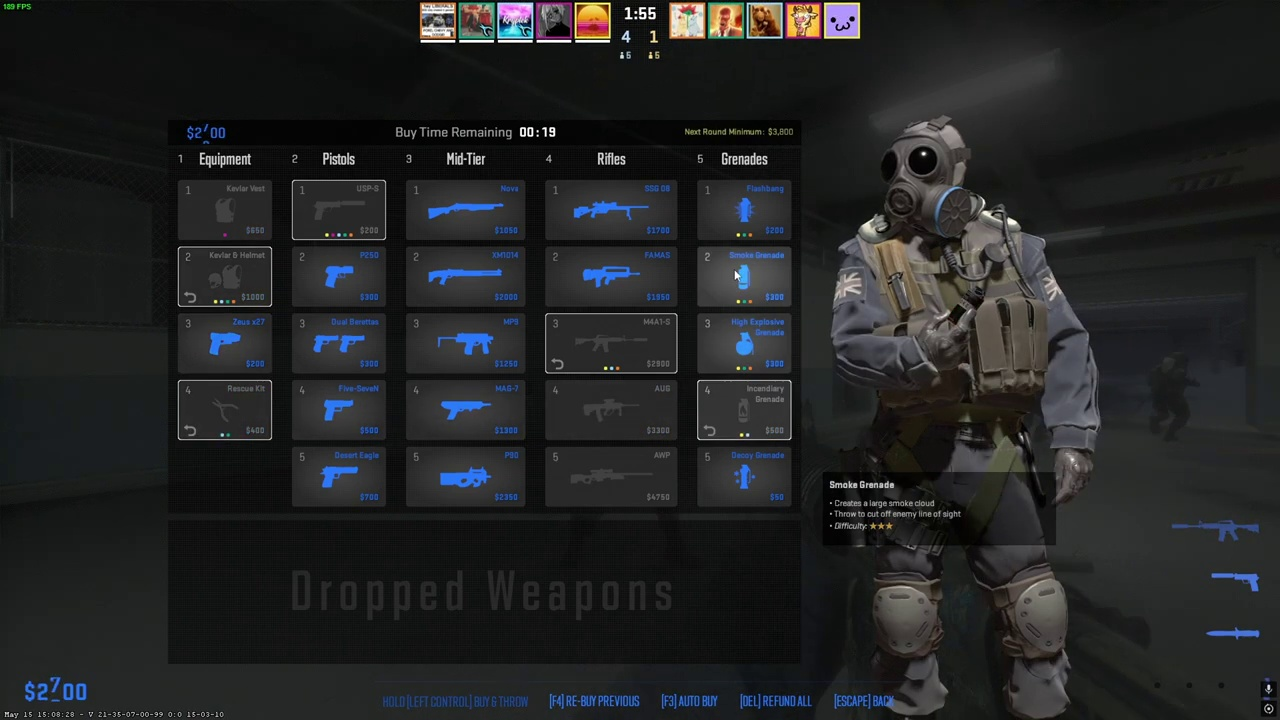CT: (854, 123, 1075, 720), (1149, 352, 1195, 441)
